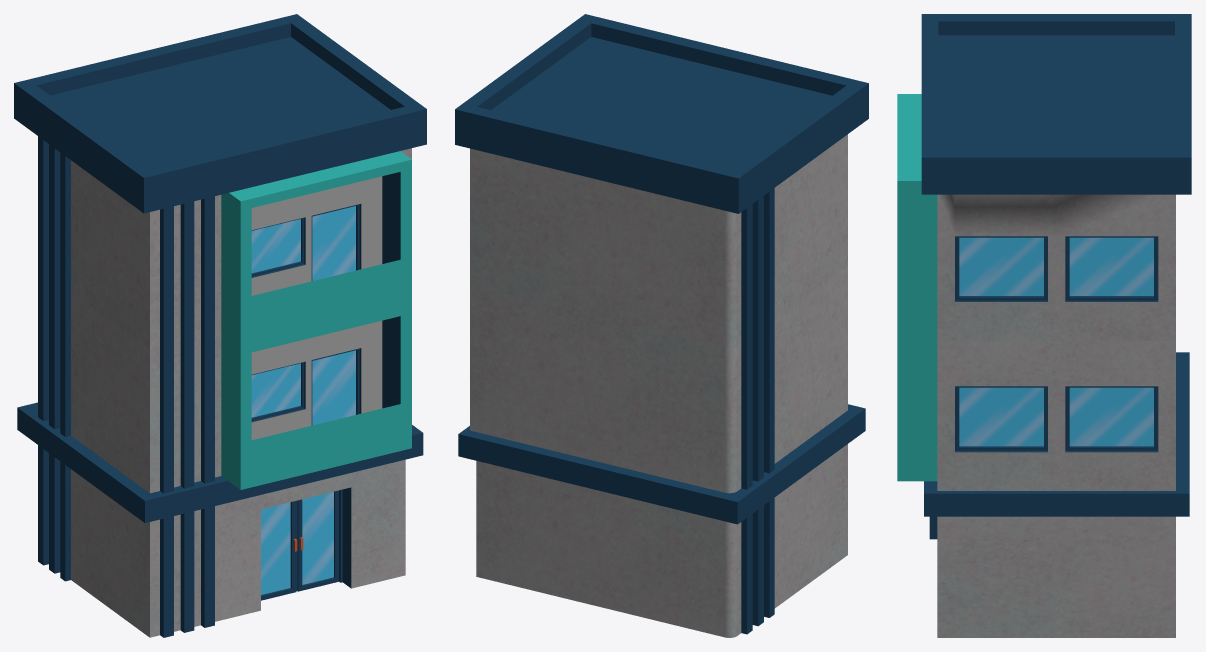
The model's file is ConcreteHouse_tall.fbx.
3 views of the same model, side by side, from view 1: azimuth 30°, elevation 25°; view 2: azimuth 150°, elevation 25°; view 3: azimuth 270°, elevation 25° (orthographic). The views are drawn at different scales.
Visible parts, largest first — view 1: ConcreteHouse_tall; view 2: ConcreteHouse_tall; view 3: ConcreteHouse_tall.
Boxes of the visible parts, x1,y1,x2,y2 form: ConcreteHouse_tall: (14,14,426,637); ConcreteHouse_tall: (455,14,868,637); ConcreteHouse_tall: (897,14,1191,637).
Size of the model in its own units: 34.29 by 62.59 by 39.57.
